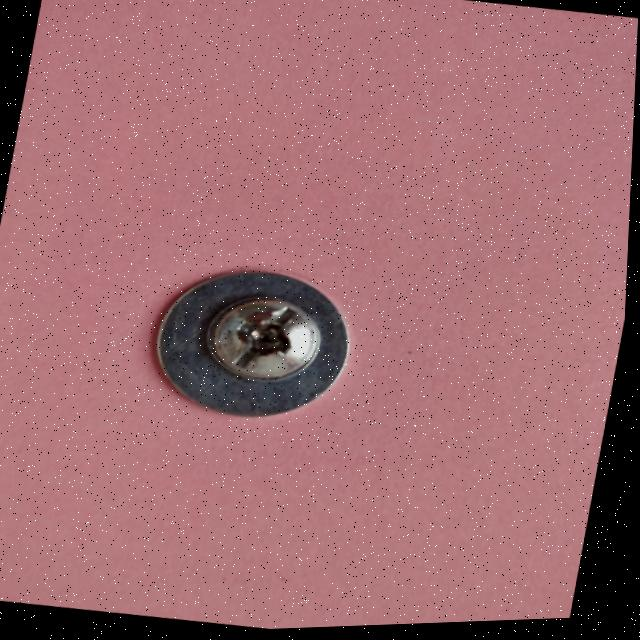Phillips: (163, 278, 345, 401)
